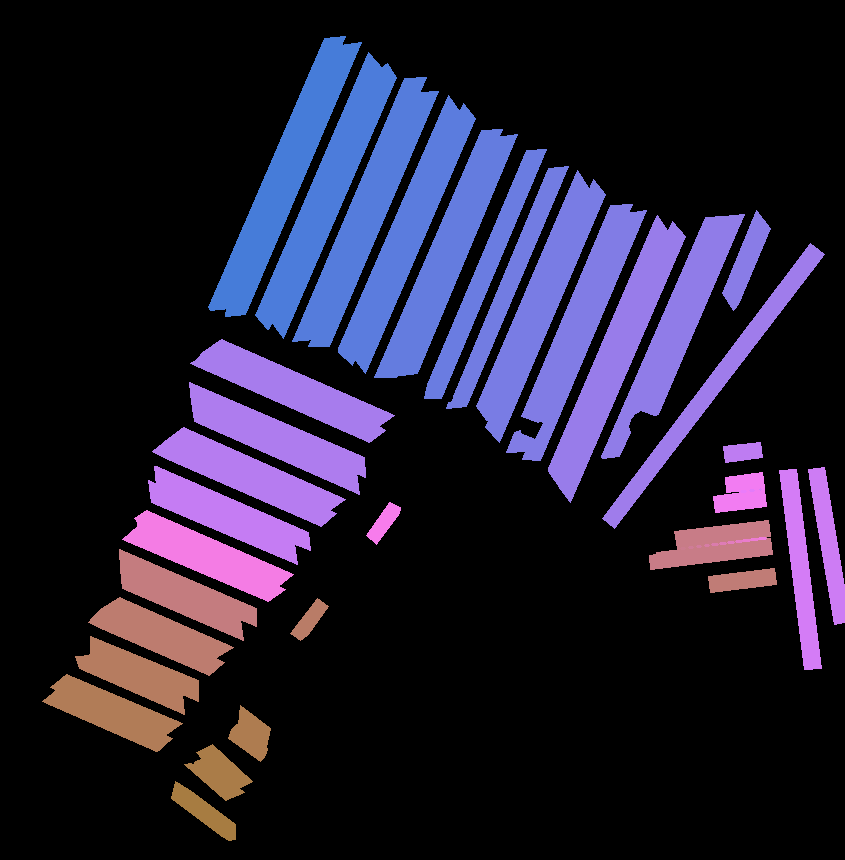parkingspot: (602, 243, 824, 528), (208, 36, 345, 310), (225, 42, 361, 316), (558, 221, 685, 502), (292, 77, 426, 341), (255, 52, 382, 329), (270, 63, 396, 338), (308, 91, 438, 346), (353, 103, 475, 373), (338, 95, 460, 365), (548, 215, 669, 487), (374, 129, 502, 377), (485, 179, 605, 442), (522, 210, 646, 460), (424, 149, 546, 398), (393, 134, 517, 376), (601, 216, 724, 458), (446, 166, 568, 408), (476, 170, 590, 421), (521, 204, 632, 422), (640, 214, 744, 415), (190, 351, 385, 442), (202, 339, 394, 427), (189, 382, 365, 477), (152, 438, 336, 526), (191, 401, 359, 494), (168, 427, 345, 510), (154, 466, 310, 550), (148, 480, 297, 564), (122, 526, 285, 601), (134, 510, 293, 586), (119, 549, 256, 626), (88, 608, 224, 675), (120, 568, 243, 640), (779, 469, 821, 669), (100, 597, 233, 659), (42, 688, 172, 751), (50, 674, 182, 736), (90, 636, 198, 701), (75, 654, 184, 714), (808, 467, 845, 624), (722, 210, 770, 310), (649, 538, 772, 569), (171, 781, 235, 840), (674, 520, 770, 548), (184, 758, 244, 800), (196, 744, 252, 788), (708, 568, 776, 592), (290, 598, 328, 640), (228, 724, 267, 761), (366, 502, 400, 544), (238, 705, 270, 747), (713, 489, 766, 512), (723, 442, 762, 462), (725, 472, 764, 492), (506, 430, 532, 452)
